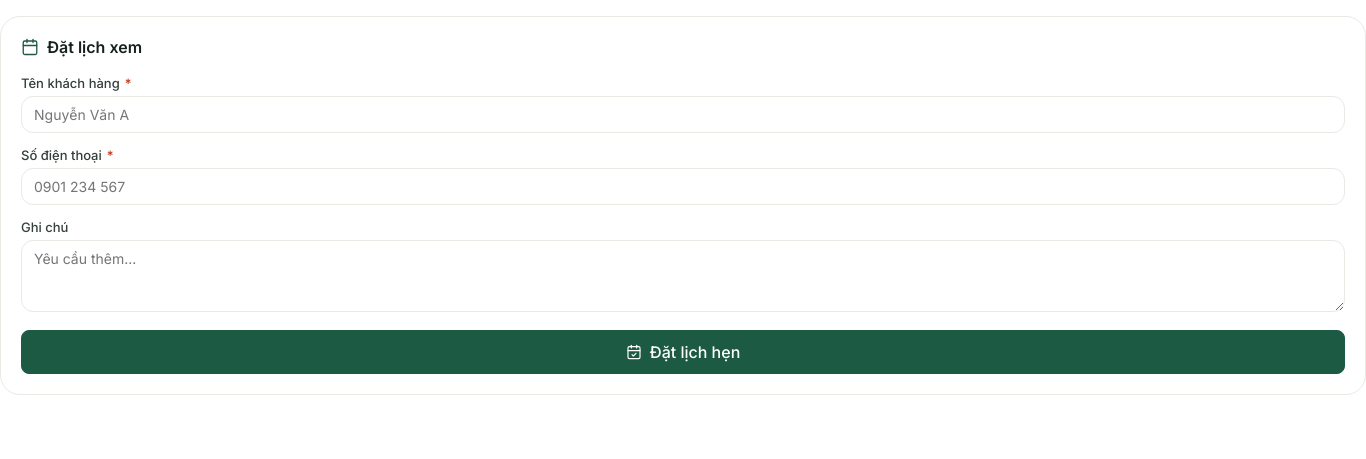
Scenario: BookingForm › shows the real error message instead of a generic fallback when request-otp fails
Step 1. Type "Trần Văn B" into the field labelled "Tên khách hàng *" → {"x": 683, "y": 114}, box [21,96,1345,133]
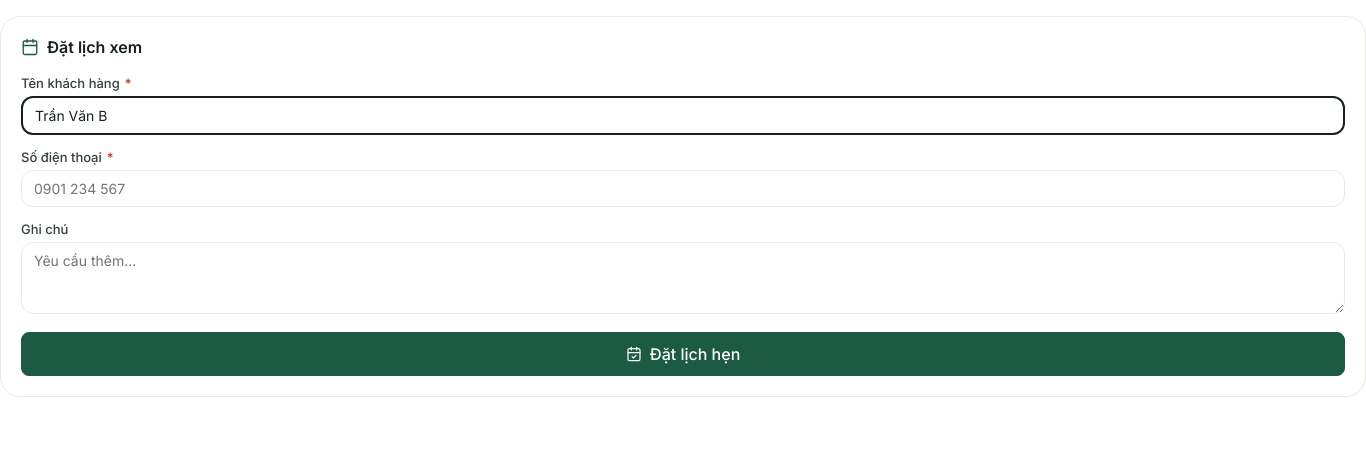
Step 2. Type "0901234567" into the field labelled "Số điện thoại *" → {"x": 683, "y": 188}, box [21,170,1345,207]
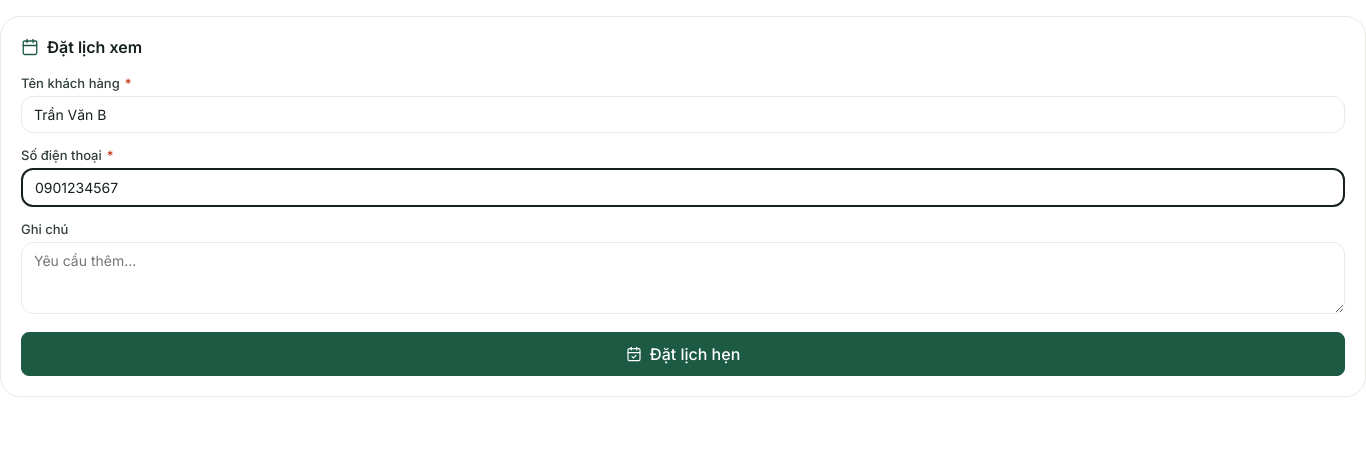
Step 3. Click the button "Đặt lịch hẹn" → {"x": 683, "y": 354}, box [21,332,1345,376]
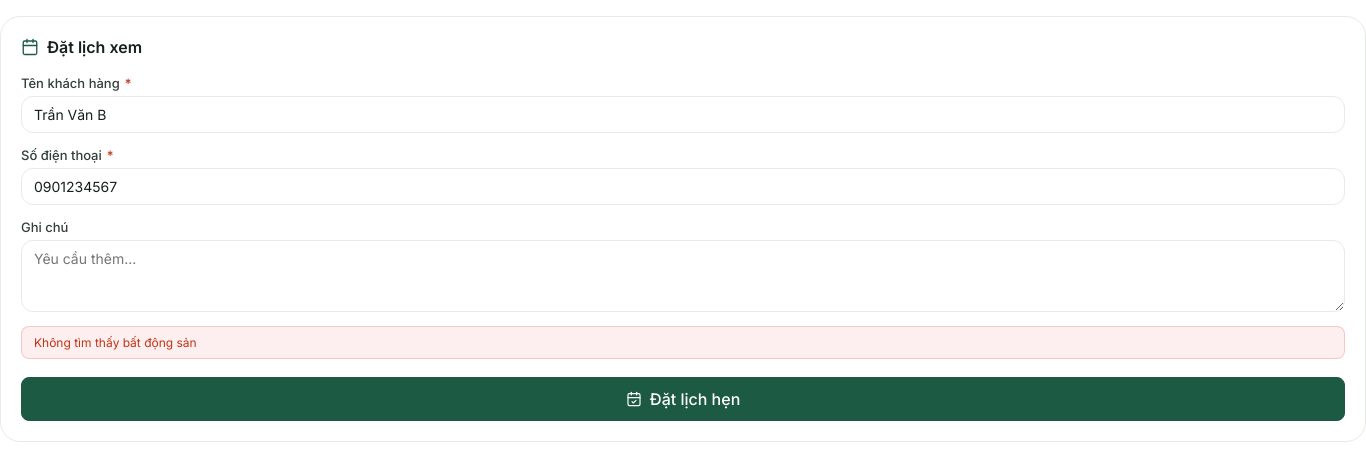
Now the text "Không tìm thấy bất động sản" is shown, box [21,326,1345,359]
